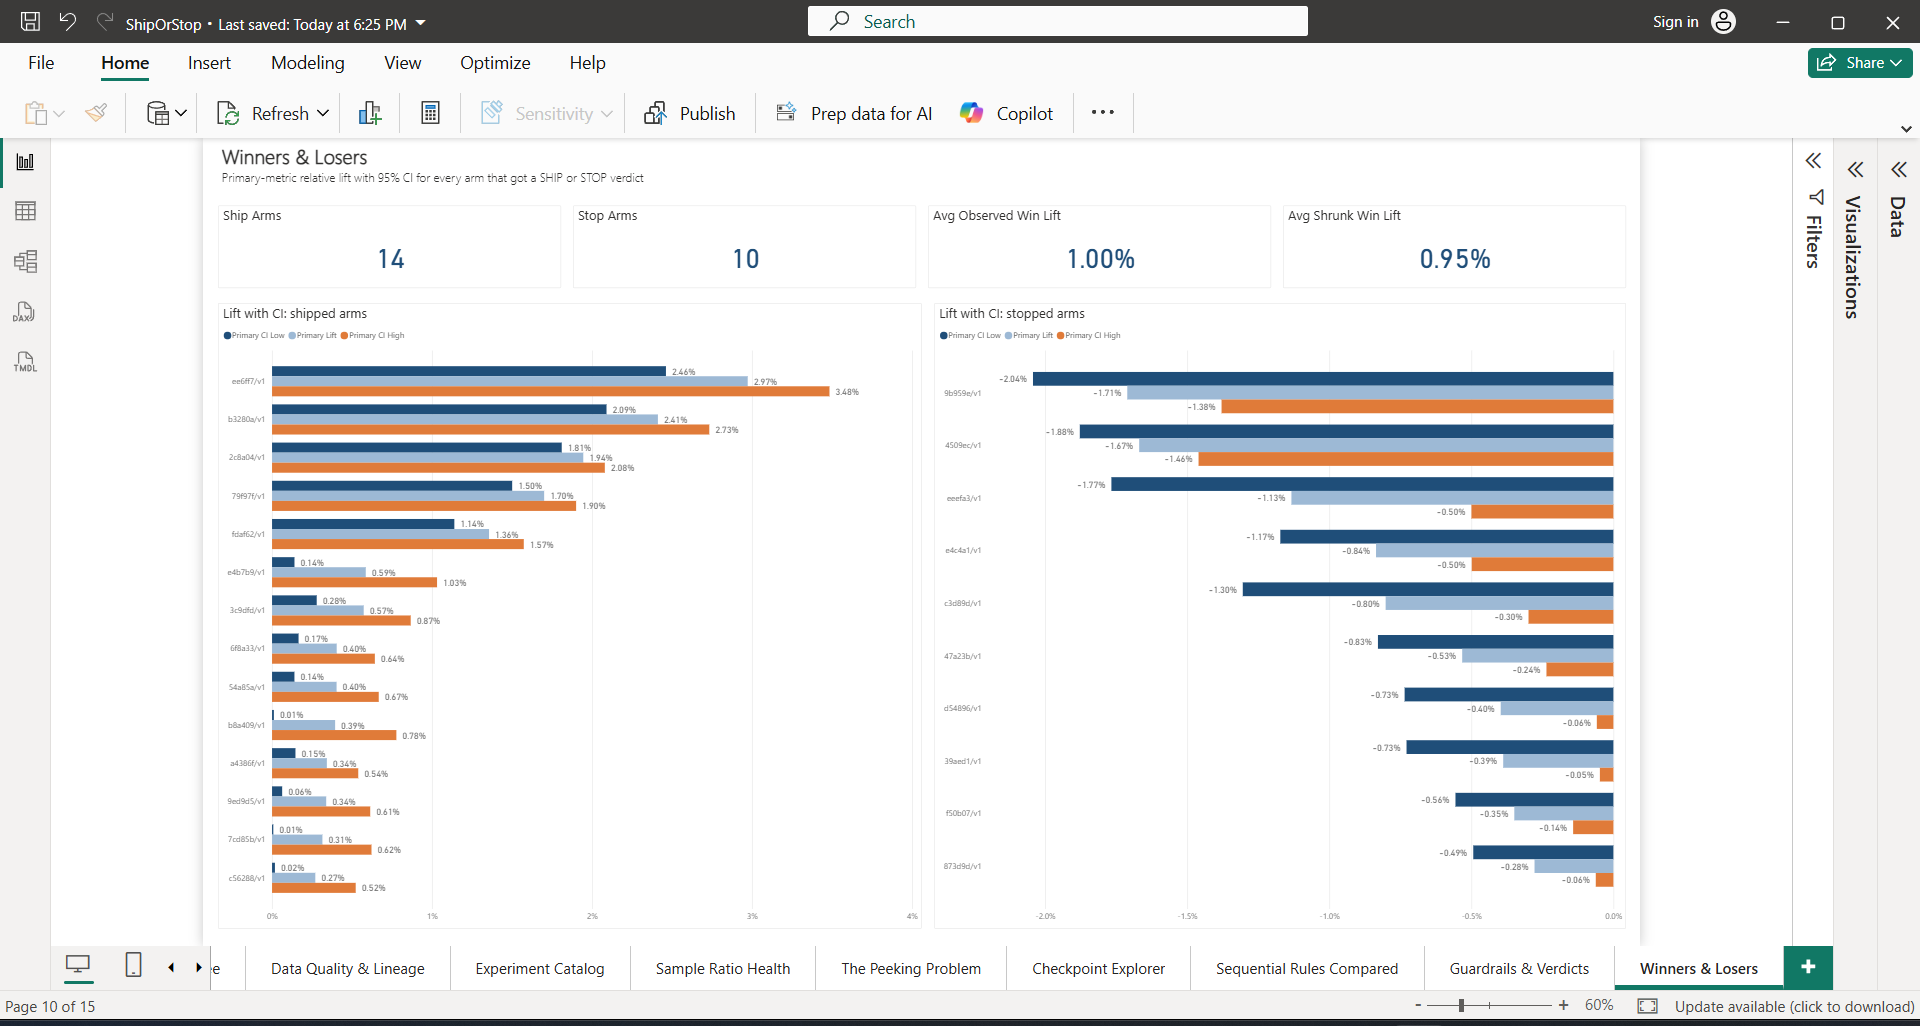

Layout of this report page (visuals, bound fields, positions):
{"tool":"powerbi","page":{"name":"Winners & Losers","canvas":[1920,1080],"ordinal":9},"visuals":[{"type":"textbox","box":[20,2,1880,86],"z":0},{"type":"card","title":"Ship Arms","fields":{"Values":["_Measures.Ship Arms"]},"box":[20,90,458,110],"z":1000},{"type":"card","title":"Stop Arms","fields":{"Values":["_Measures.Stop Arms"]},"box":[494,90,458,110],"z":2000},{"type":"card","title":"Avg Observed Win Lift","fields":{"Values":["_Measures.Avg Observed Win Lift"]},"box":[968,90,458,110],"z":3000},{"type":"card","title":"Avg Shrunk Win Lift","fields":{"Values":["_Measures.Avg Shrunk Win Lift"]},"box":[1442,90,458,110],"z":4000},{"type":"clusteredBarChart","title":"Lift with CI: shipped arms","fields":{"Category":["arms.arm_id"],"Y":["_Measures.Primary CI Low","_Measures.Primary Lift","_Measures.Primary CI High"]},"box":[20,220,940,836],"z":5000},{"type":"clusteredBarChart","title":"Lift with CI: stopped arms","fields":{"Category":["arms.arm_id"],"Y":["_Measures.Primary CI Low","_Measures.Primary Lift","_Measures.Primary CI High"]},"box":[976,220,924,836],"z":6000}]}

Visuals, with their boxes on the page's 1920x1080 design canvas (x1, y1, x2, y2). These are canvas units, not pixel positions in the 1920x1026 screenshot, which may show the page scaled, cropped or inside an application window:
textbox: [20,2,1900,88]
"Ship Arms" card: [20,90,478,200]
"Stop Arms" card: [494,90,952,200]
"Avg Observed Win Lift" card: [968,90,1426,200]
"Avg Shrunk Win Lift" card: [1442,90,1900,200]
"Lift with CI: shipped arms" clusteredBarChart: [20,220,960,1056]
"Lift with CI: stopped arms" clusteredBarChart: [976,220,1900,1056]
